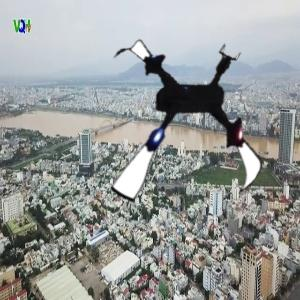drone: (83, 29, 279, 225)
